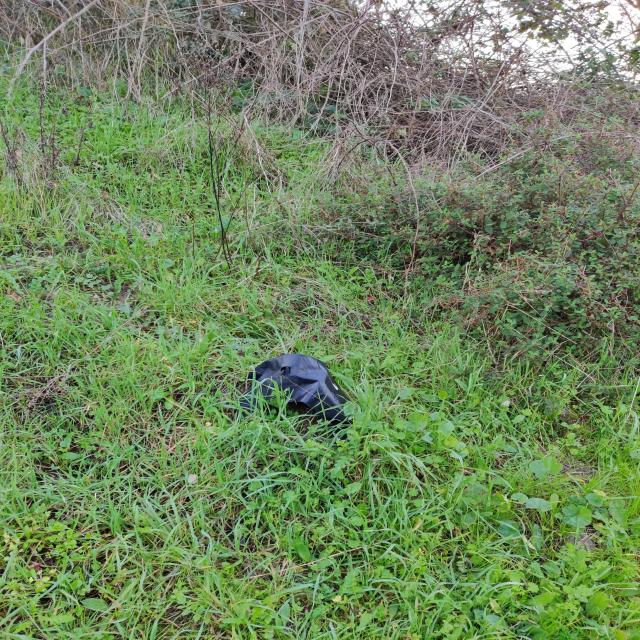litter: (241, 353, 356, 423)
